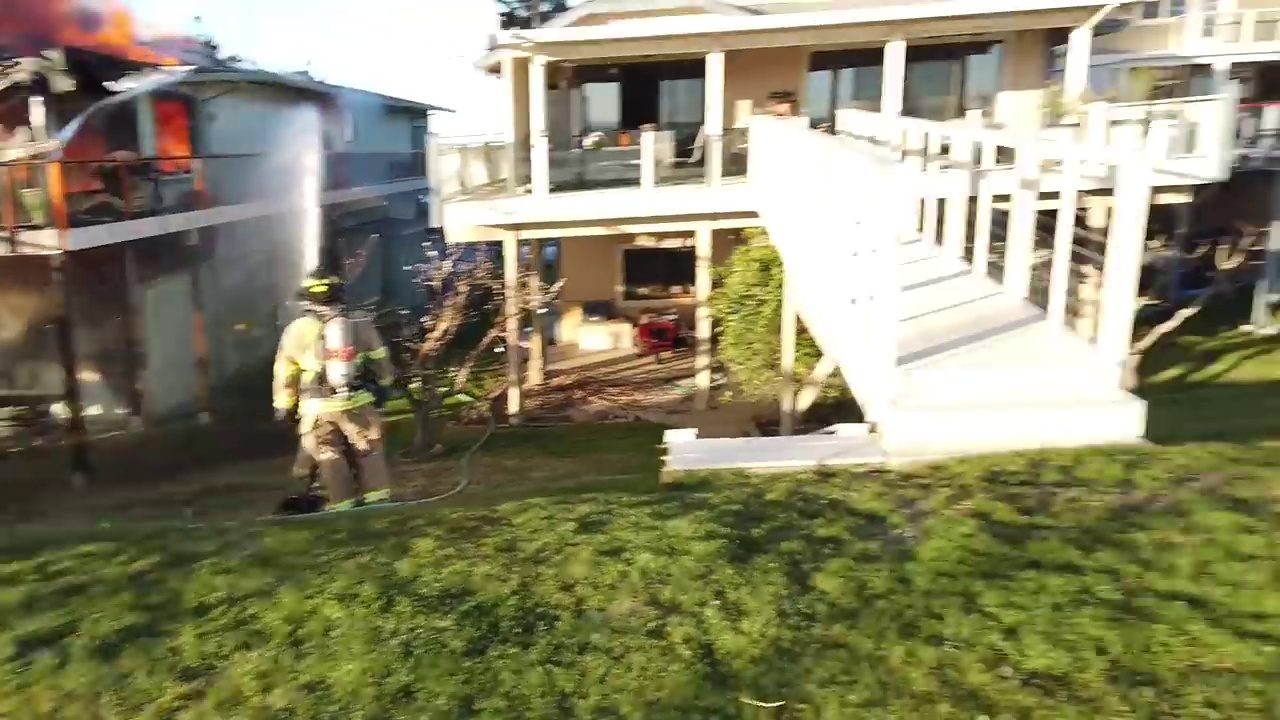fire: (1, 1, 179, 67), (154, 101, 190, 158)
